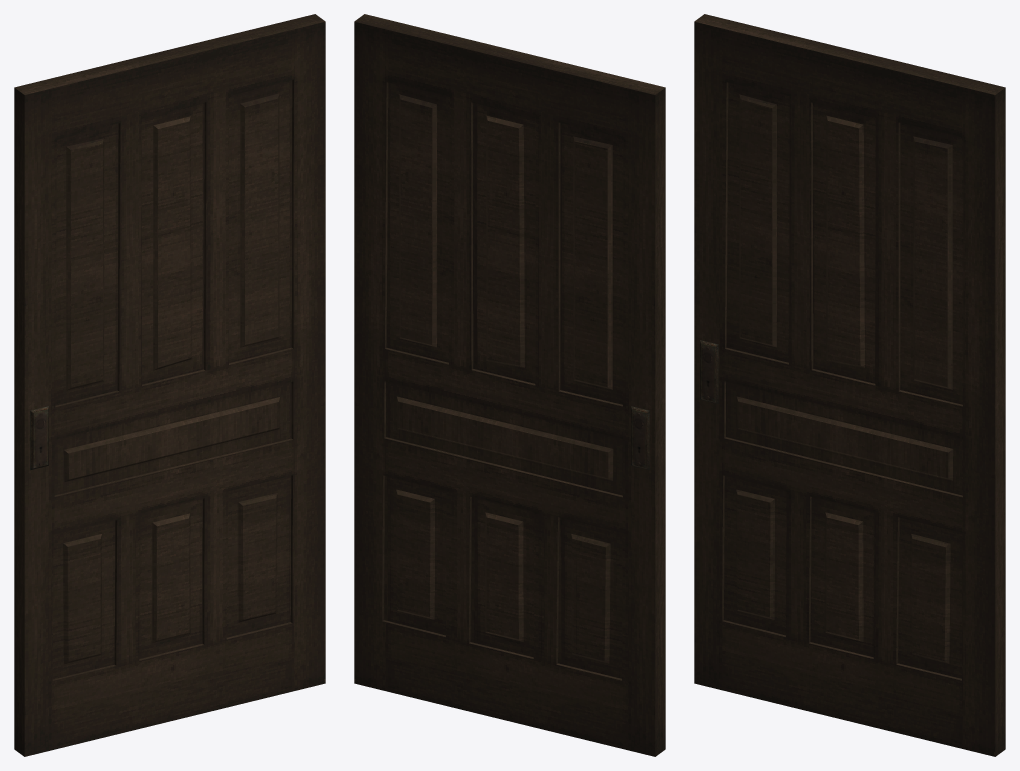
The model's file is door.glb.
3 renders of one model, left to right at view 1: azimuth 30°, elevation 25°; view 2: azimuth 150°, elevation 25°; view 3: azimuth 330°, elevation 25°, orthographic.
Visible parts, largest first — view 1: door_2; view 2: door_2; view 3: door_2.
Boxes of the visible parts, x1,y1,x2,y2 form: door_2: [14, 14, 325, 756]; door_2: [354, 14, 665, 756]; door_2: [694, 14, 1005, 756].
Size of the model in its own units: 1 by 2.1 by 0.08.
2 materials, 2 textured.
